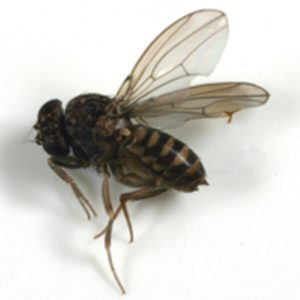Fruit fly: (20, 44, 247, 283)
